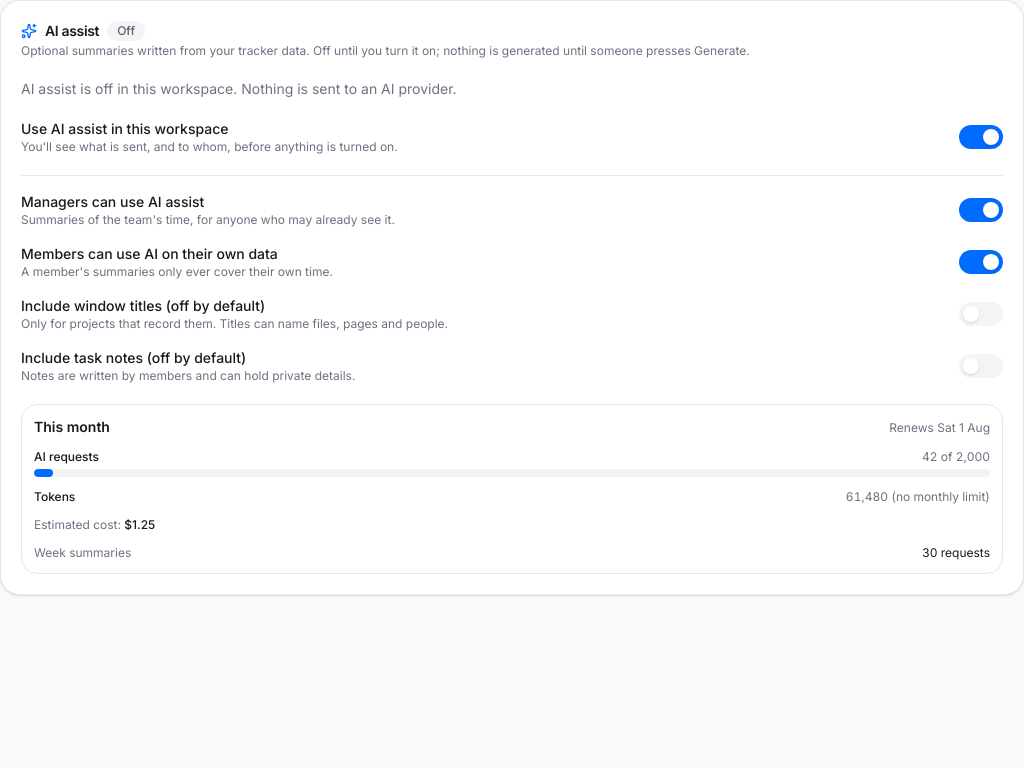
Scenario: other changes › says when a save failed, in the card
Step 1. Click the switch named "Members can use AI on their own data" in the row of "Members can use AI on their own data" → x=981, y=262, box [959,250,1003,274]
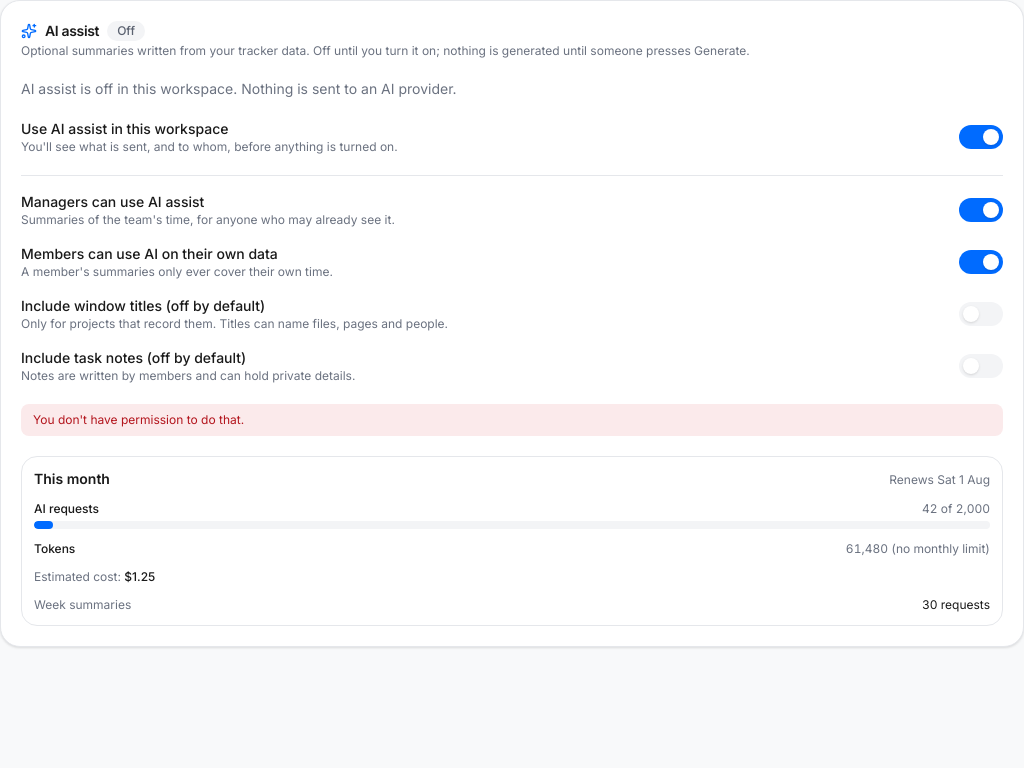
Expected: the message reads "You don't have permission to do that.", [33,412,244,427]
